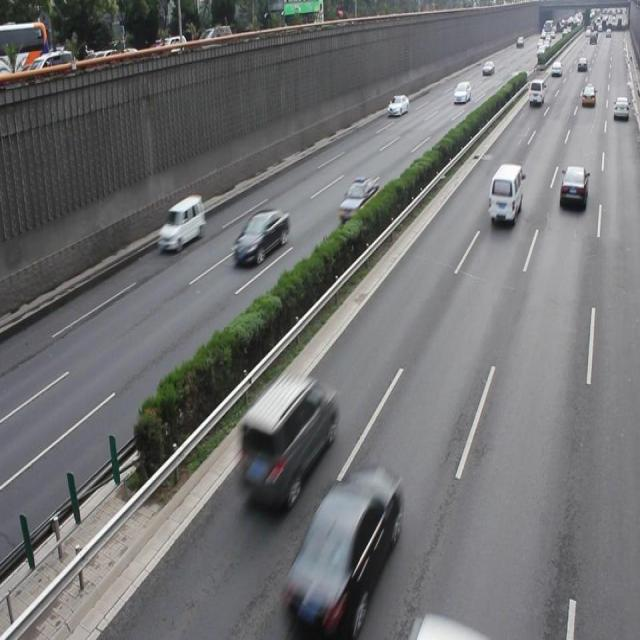car: (289, 462, 399, 618), (235, 372, 331, 509), (232, 207, 288, 265), (157, 195, 205, 248), (338, 177, 379, 218), (558, 164, 586, 209)
truck: (488, 162, 522, 223)
